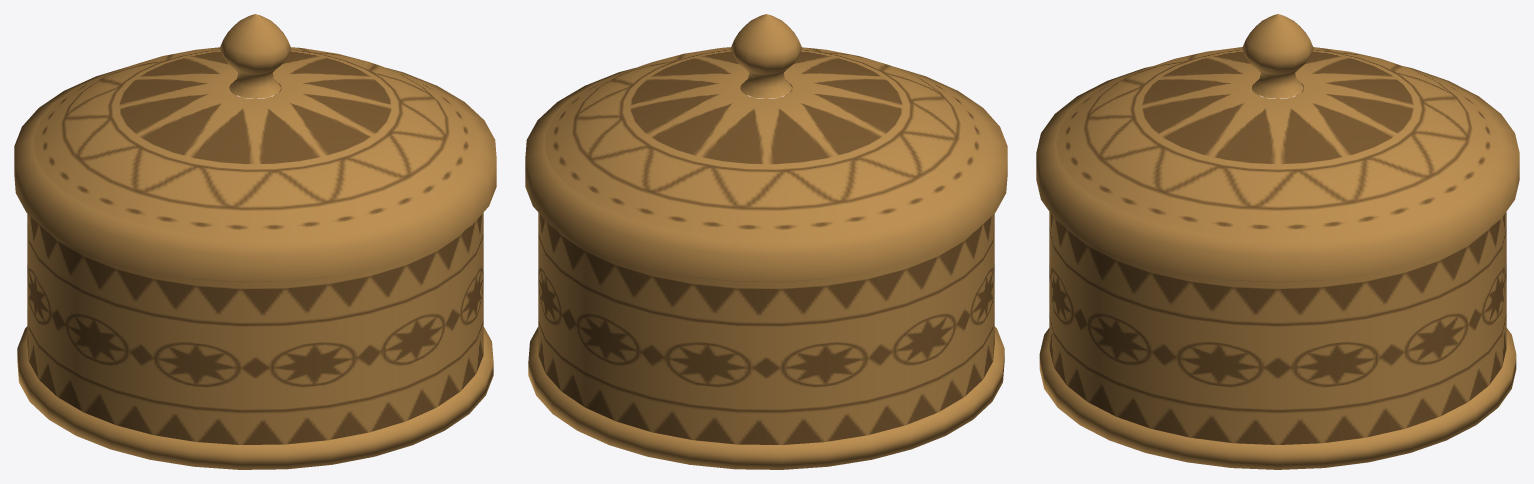
Rendered from prop-metal-box.glb.
The picture shows the model from 3 angles, left to right: view 1: azimuth 30°, elevation 25°; view 2: azimuth 150°, elevation 25°; view 3: azimuth 270°, elevation 25°; orthographic projection.
Parts seen in each view (by area): view 1: piece_EngravedBrass, lid_EngravedBrassLid, lid_Brass, piece_Brass; view 2: piece_EngravedBrass, lid_EngravedBrassLid, lid_Brass, piece_Brass; view 3: piece_EngravedBrass, lid_EngravedBrassLid, lid_Brass, piece_Brass.
Part boxes in pixels (bbox=[...]): piece_EngravedBrass: bbox=[27, 213, 483, 444]; lid_EngravedBrassLid: bbox=[33, 47, 477, 237]; lid_Brass: bbox=[14, 14, 496, 281]; piece_Brass: bbox=[17, 83, 493, 469]; piece_EngravedBrass: bbox=[538, 213, 994, 444]; lid_EngravedBrassLid: bbox=[544, 47, 988, 237]; lid_Brass: bbox=[525, 14, 1007, 281]; piece_Brass: bbox=[528, 83, 1004, 469]; piece_EngravedBrass: bbox=[1049, 212, 1506, 444]; lid_EngravedBrassLid: bbox=[1056, 47, 1499, 237]; lid_Brass: bbox=[1036, 14, 1519, 281]; piece_Brass: bbox=[1039, 83, 1516, 469].
Bounding box in the file's own units: 0.148 × 0.122 × 0.148.
Materials: 3 (2 with a texture image).
